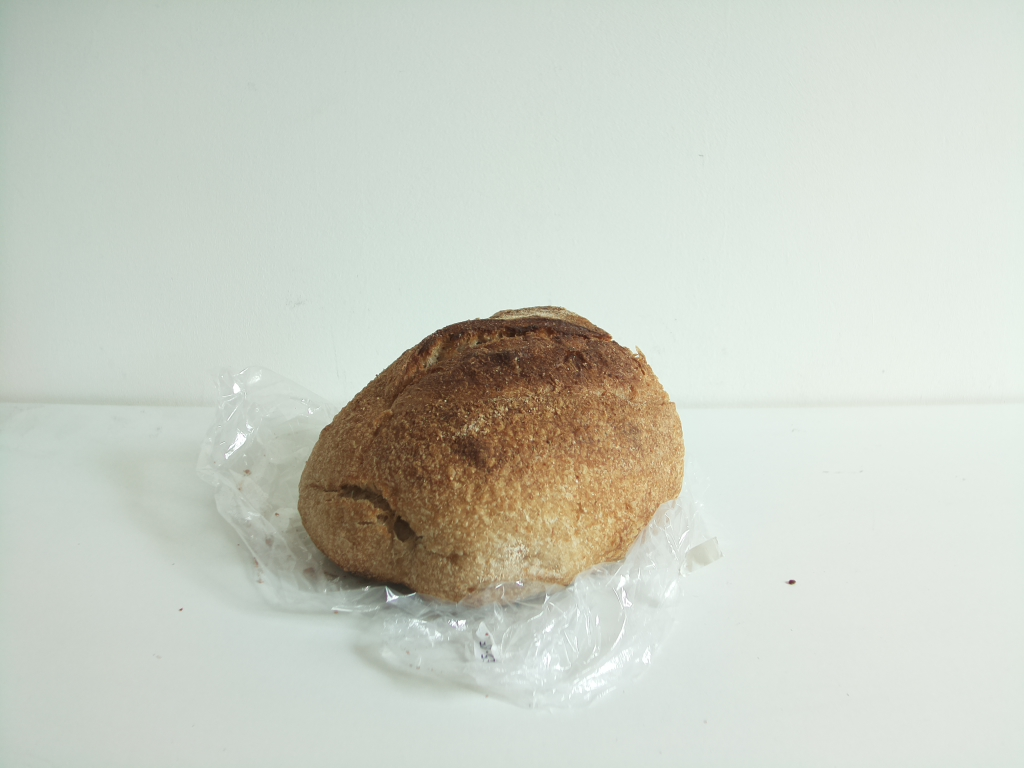bread: (296, 305, 689, 610)
